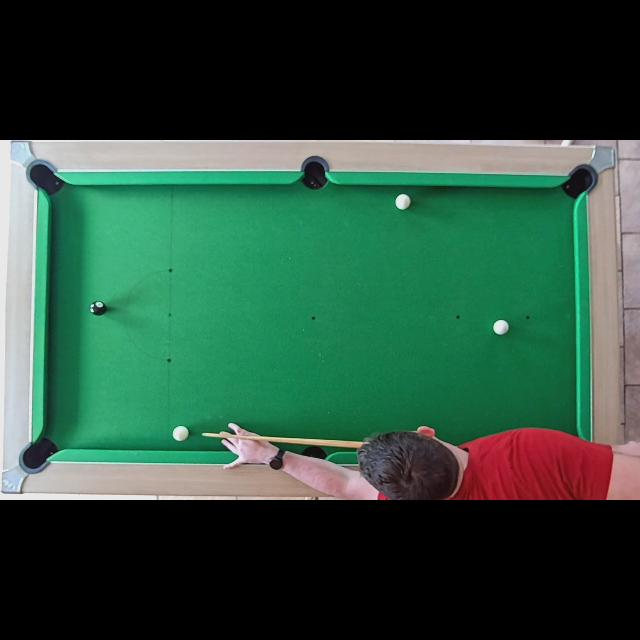Ball: (396, 194, 412, 210), (172, 426, 188, 440), (494, 320, 508, 336), (90, 301, 106, 315)
